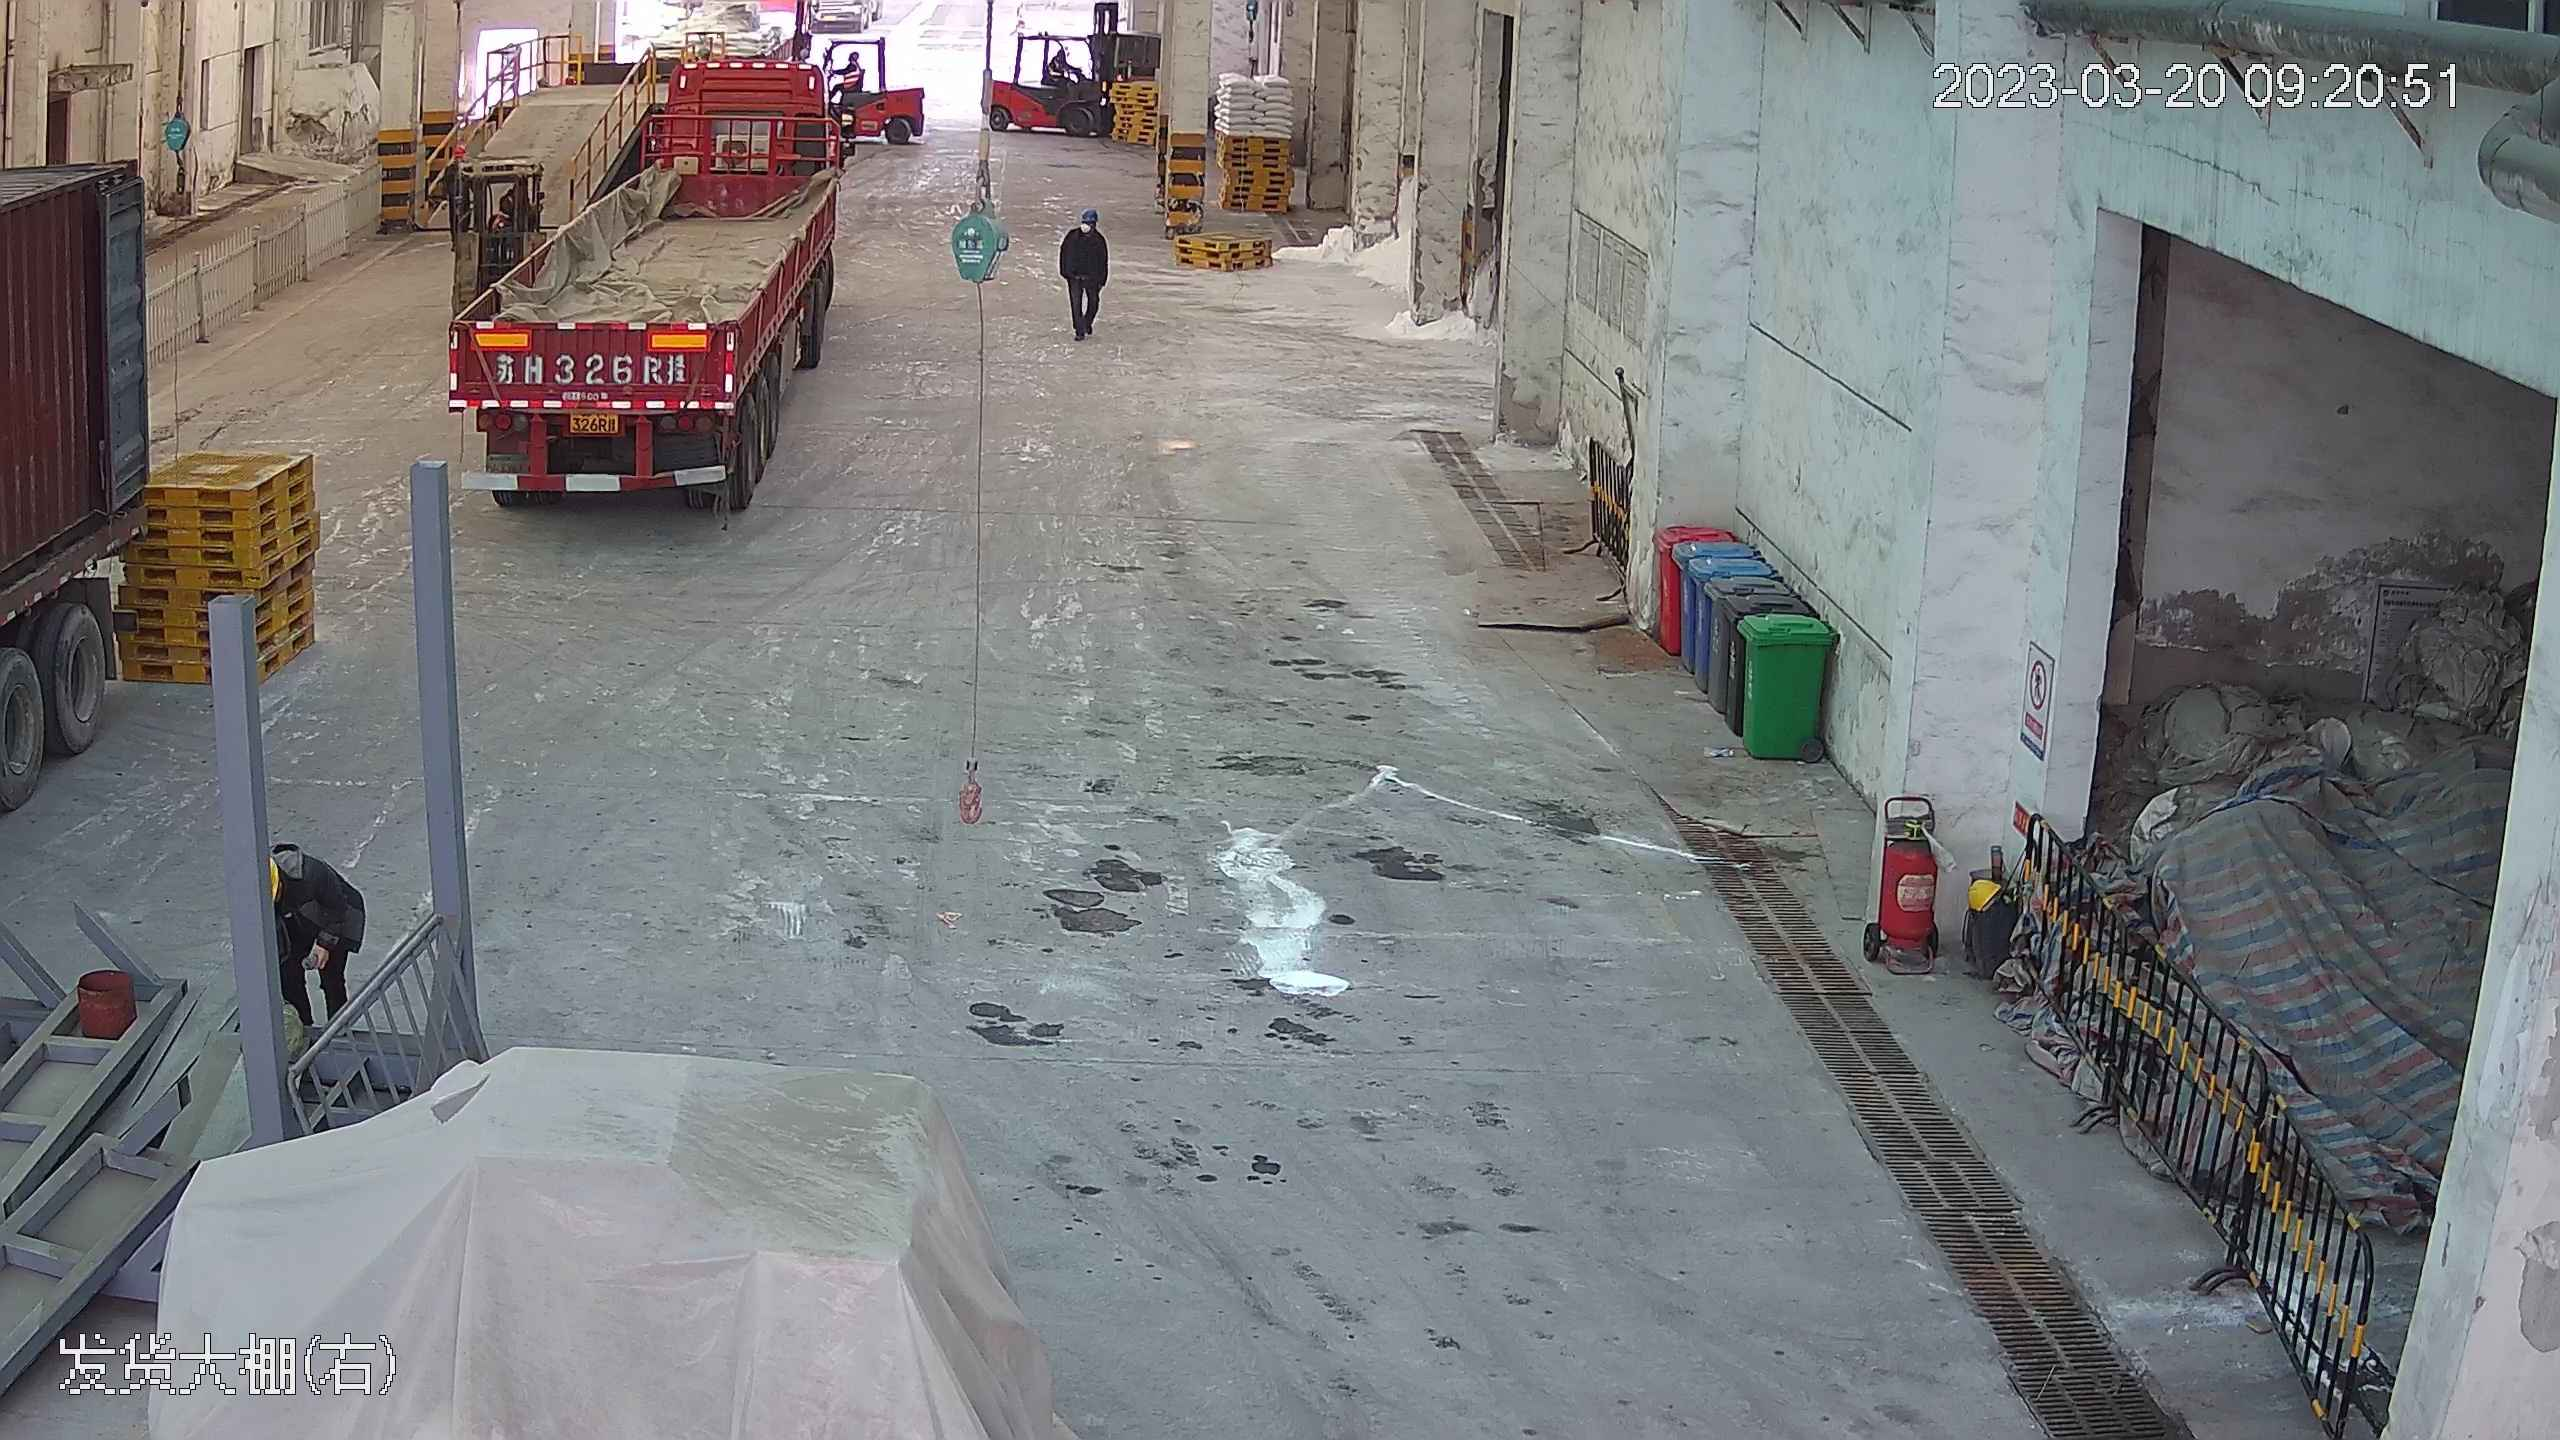head: (1060, 200, 1108, 250), (840, 52, 862, 73)
helmet: (1078, 207, 1100, 226), (850, 49, 859, 61)
people: (263, 844, 365, 1026), (1056, 200, 1113, 345), (827, 47, 863, 99)
truck: (439, 14, 852, 523), (1, 12, 166, 906)
